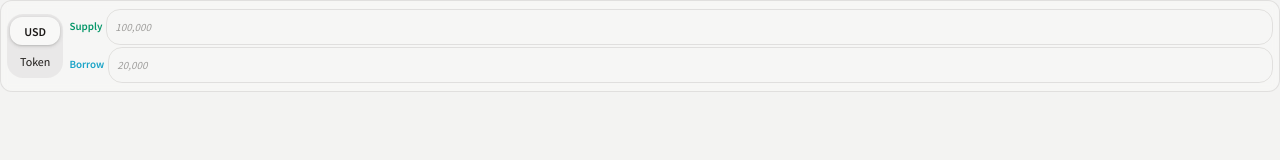
Test case: ScenarioControls › Mobile › clears both inputs when switching mode on mobile
Type "50" into the field named "Supply amount" at (690, 27), box [106, 9, 1273, 45]
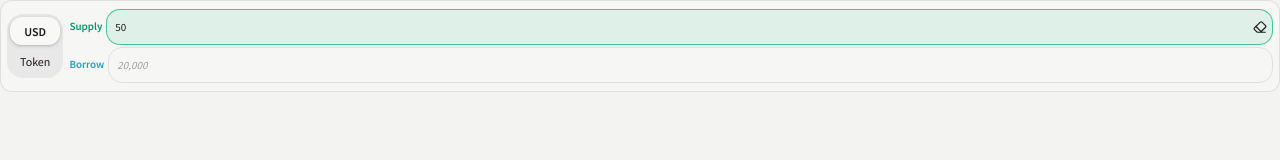
Type "10" into the field named "Borrow amount" at (691, 65), box [108, 47, 1273, 83]
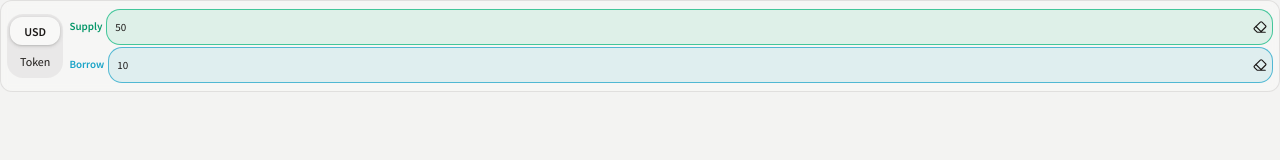
Click the radio button "Token" at (35, 61), box [10, 47, 60, 75]
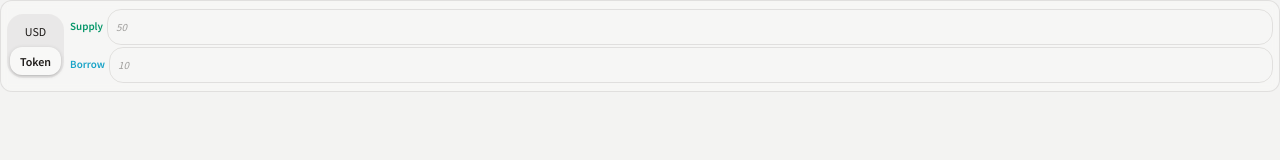
Expected: the field named "Supply amount" is empty, [107, 9, 1273, 45]
Expected: the field named "Borrow amount" is empty, [109, 47, 1273, 83]
